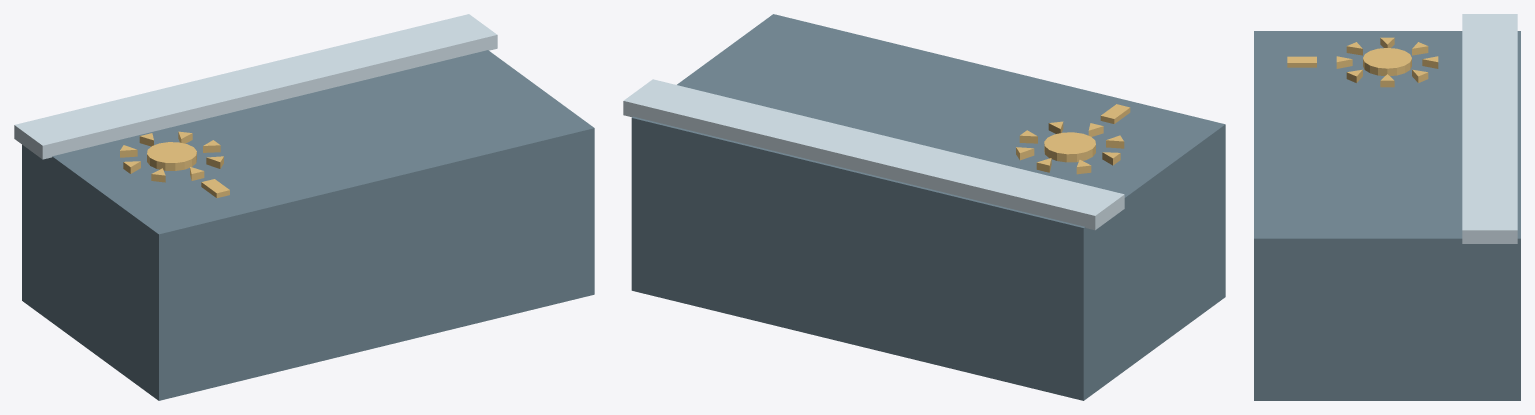
Rendered from clue_left.glb.
3 views of the same model, side by side, from view 1: azimuth 30°, elevation 25°; view 2: azimuth 150°, elevation 25°; view 3: azimuth 270°, elevation 25° (orthographic). The views are drawn at different scales.
Parts seen in each view (by area): view 1: CarvedStone, SnowEdge, Clue_0_Sun; view 2: CarvedStone, SnowEdge, Clue_0_Sun; view 3: CarvedStone, SnowEdge, Clue_0_Sun, Order_0_0.
Part boxes in pixels (x1,y1,x2,y2): CarvedStone: (22,50,594,400); SnowEdge: (14,14,497,159); Clue_0_Sun: (147,142,196,170); CarvedStone: (631,14,1225,400); SnowEdge: (623,79,1124,230); Clue_0_Sun: (1044,132,1095,162); CarvedStone: (1254,31,1520,400); SnowEdge: (1462,14,1517,243); Clue_0_Sun: (1363,48,1411,75); Order_0_0: (1287,56,1316,67).
Size of the model in its own units: 2.4 by 0.905 by 1.25.
